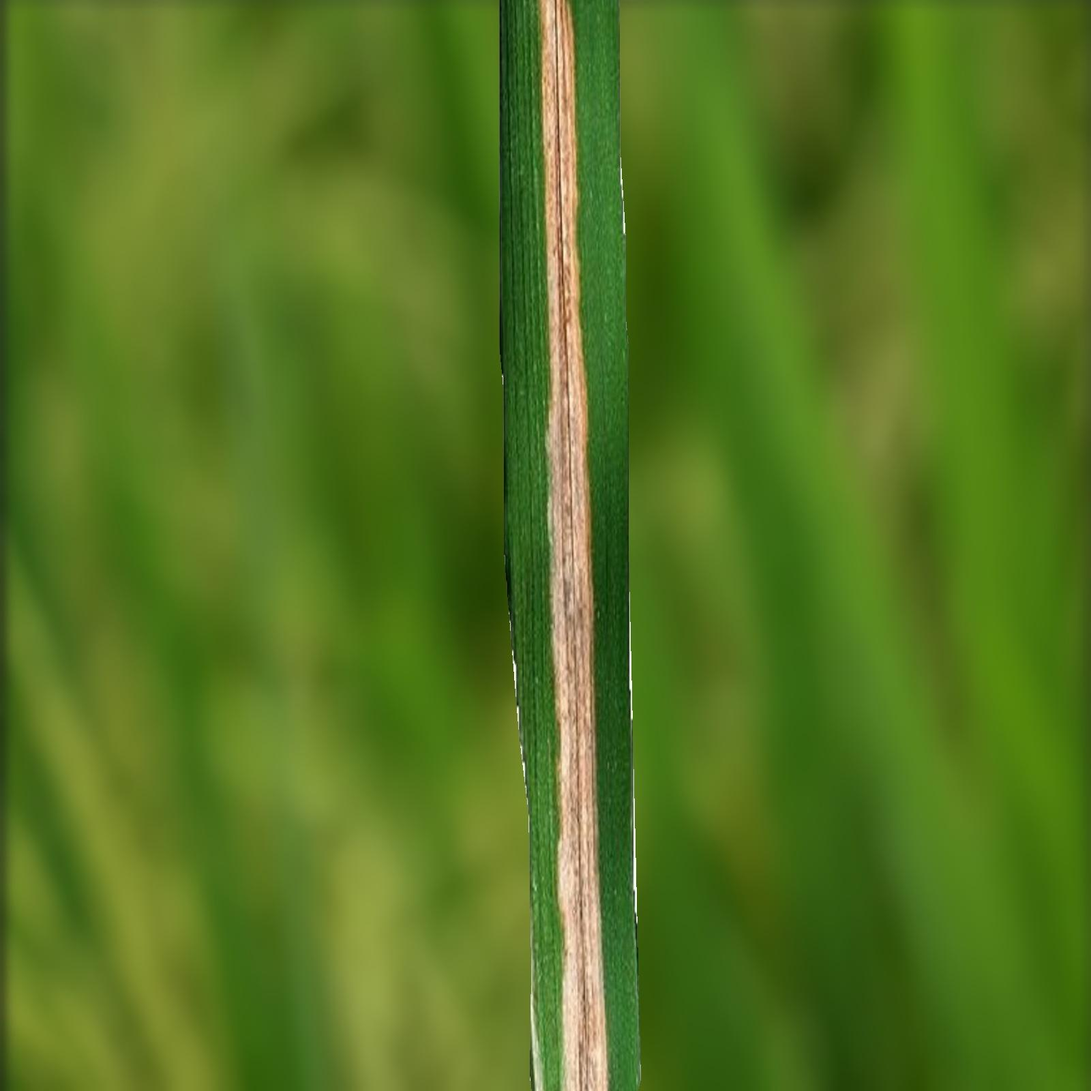BLB: (539, 0, 609, 1090)
LEAF: (499, 0, 640, 1090)
